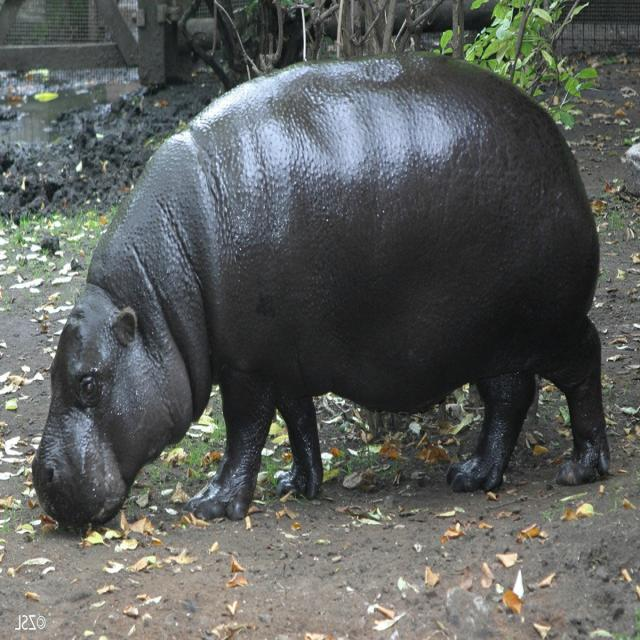hippopotamus: (33, 54, 610, 529)
